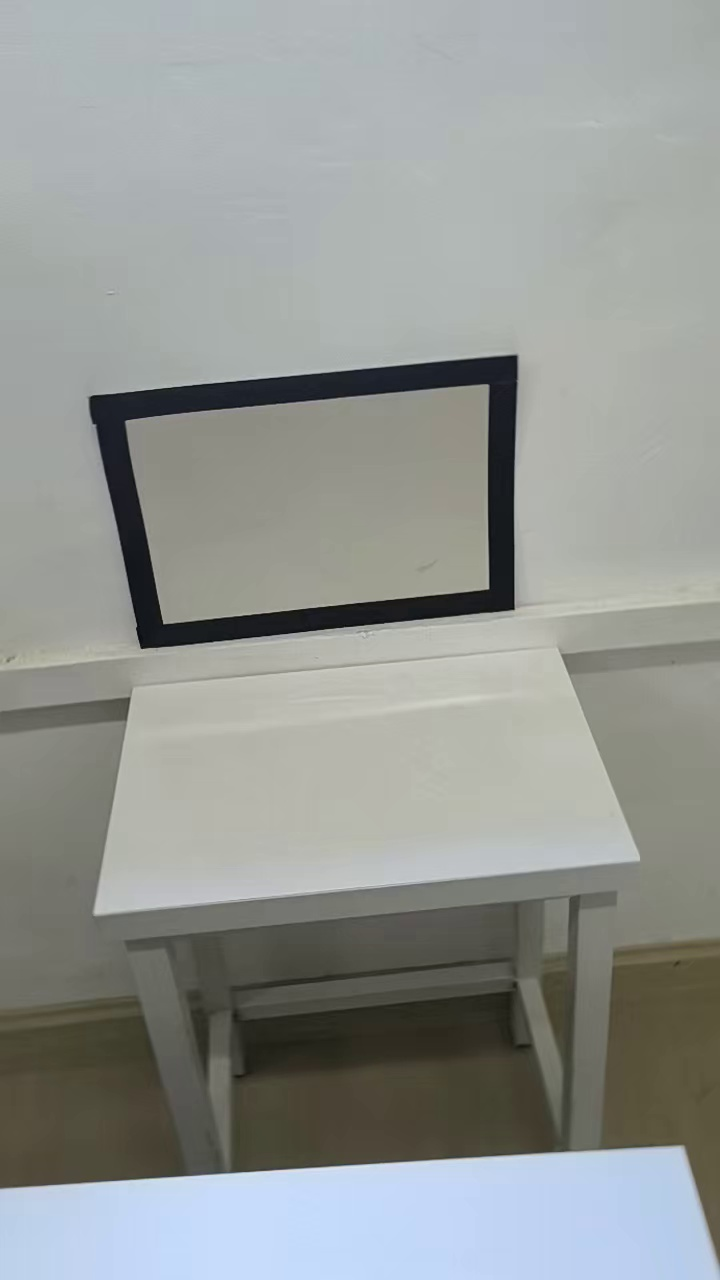board: (91, 351, 519, 640)
